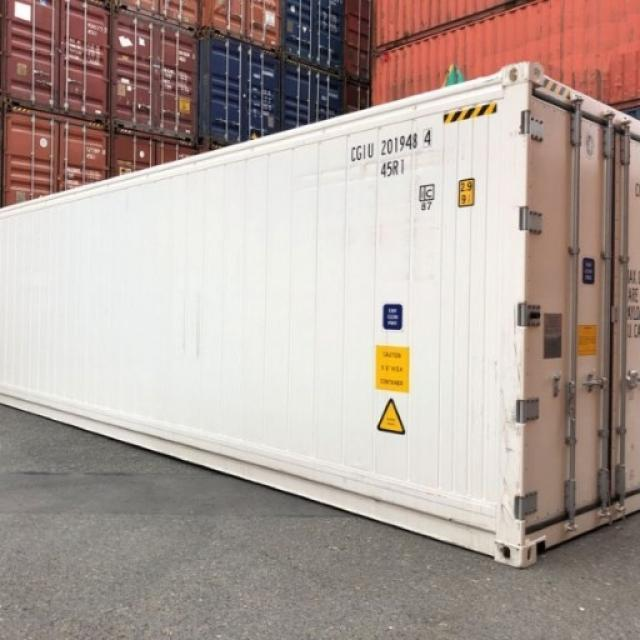ISO: (369, 160, 407, 178)
container_number: (349, 128, 432, 162)
